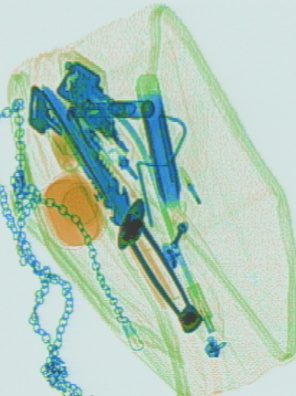knife: (40, 80, 205, 335)
